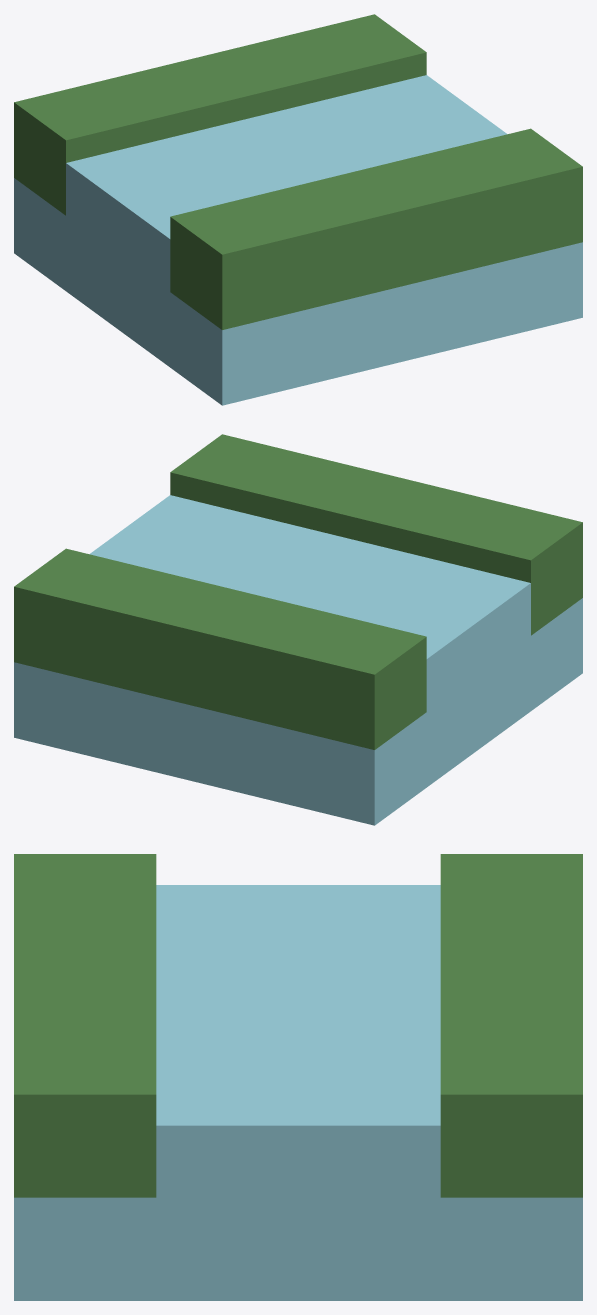
File: tile_086.fbx
3 views of the same model, one above another, from view 1: azimuth 30°, elevation 25°; view 2: azimuth 150°, elevation 25°; view 3: azimuth 270°, elevation 25° (orthographic). The views are drawn at different scales.
Parts seen in each view (by area): view 1: tile_086; view 2: tile_086; view 3: tile_086.
Boxes of the visible parts, x1,y1,x2,y2 form: tile_086: [14, 14, 582, 405]; tile_086: [14, 434, 582, 825]; tile_086: [14, 854, 582, 1300].
Bounding box in the file's own units: 10 × 4 × 10.
